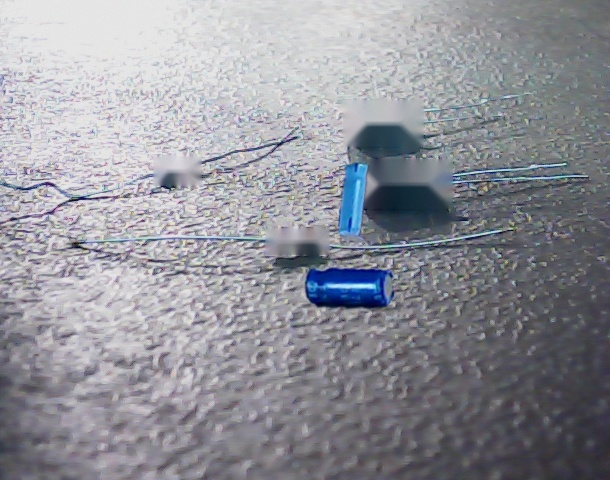capacitor: (304, 267, 395, 309), (338, 162, 369, 242)
